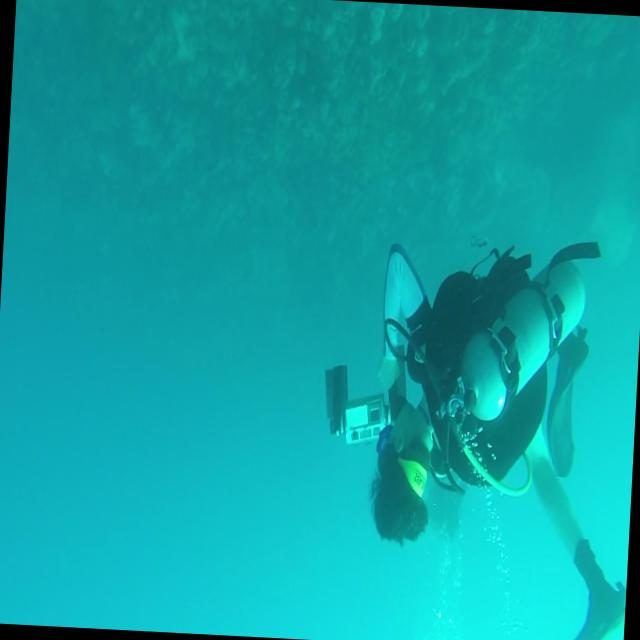human: (311, 227, 640, 640)
